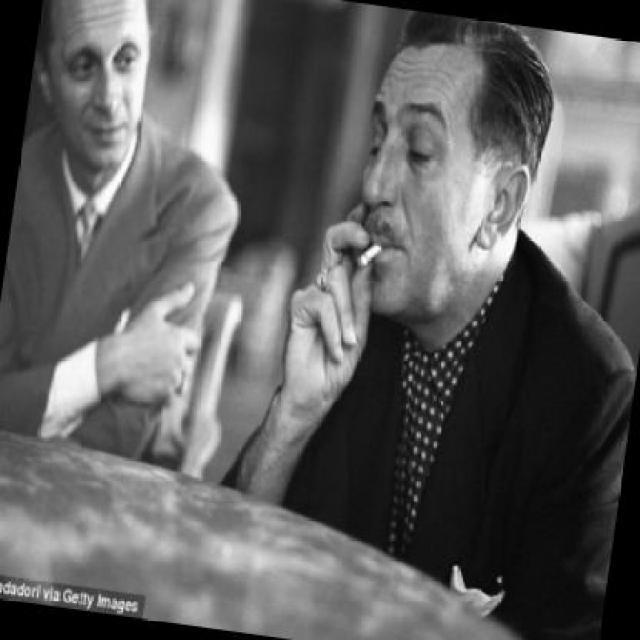smoke: (353, 236, 384, 272)
